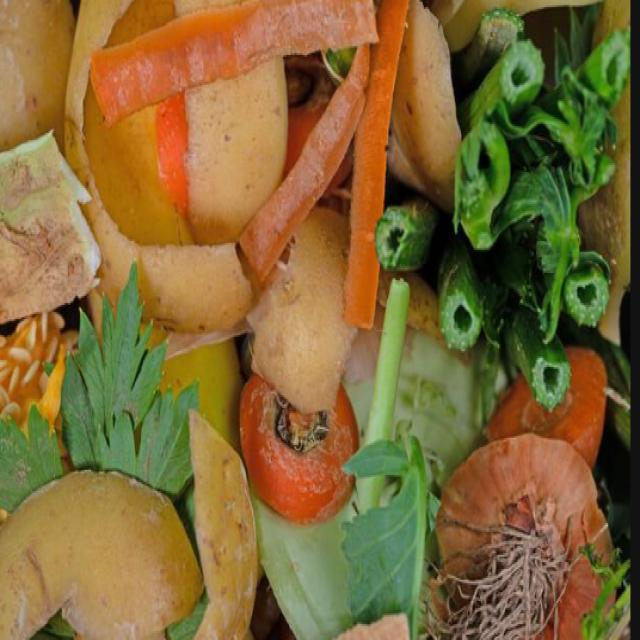paper: (437, 433, 630, 634), (0, 475, 187, 640), (345, 415, 438, 640), (234, 375, 365, 510), (514, 333, 596, 420), (441, 245, 500, 352), (564, 220, 616, 334), (478, 59, 540, 118)
